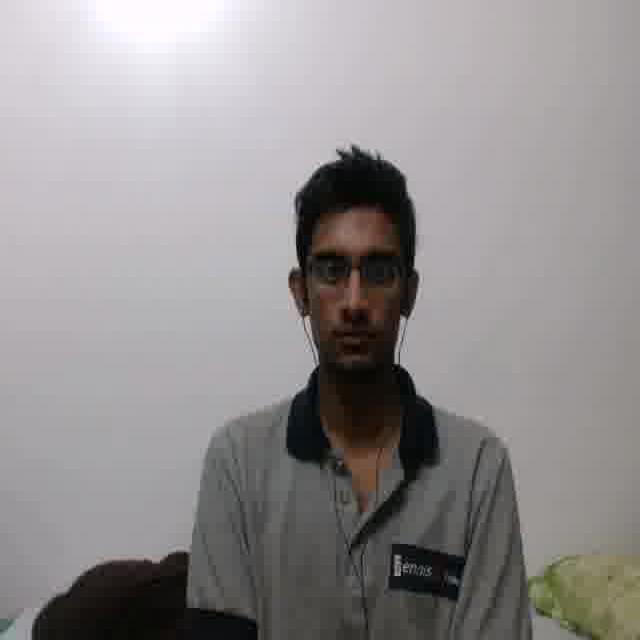Engaged: (302, 205, 402, 378)
